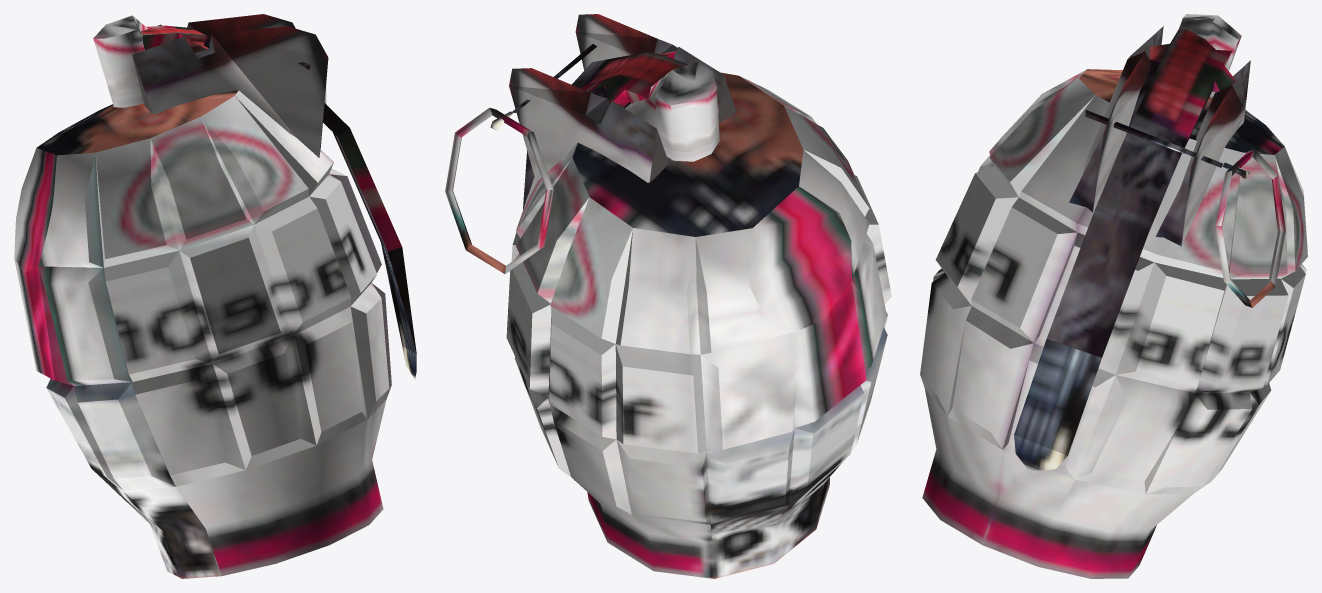
Rendered from iconlist.ico.obj.
3 renders of one model, left to right at view 1: azimuth 30°, elevation 25°; view 2: azimuth 150°, elevation 25°; view 3: azimuth 270°, elevation 25°, orthographic. The views are drawn at different scales.
Bounding box in the file's own units: 3.44 × 5 × 3.39.
